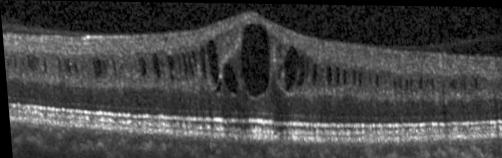intraretinal_cyst: (238, 22, 270, 97), (281, 44, 306, 90), (205, 39, 219, 83), (221, 62, 238, 95), (150, 52, 161, 77), (198, 47, 206, 77), (136, 56, 146, 77), (166, 55, 174, 80), (26, 55, 38, 71), (190, 49, 197, 73), (186, 51, 193, 75), (310, 62, 317, 84), (180, 52, 187, 74), (63, 58, 71, 75), (175, 54, 181, 75), (325, 64, 331, 83), (274, 43, 281, 58), (110, 58, 116, 75), (91, 57, 96, 76), (335, 65, 340, 83), (275, 64, 281, 79), (100, 58, 106, 73), (95, 59, 101, 74), (117, 63, 123, 77), (357, 72, 362, 86), (448, 78, 455, 88), (72, 63, 79, 73), (351, 68, 355, 85), (214, 81, 220, 92), (374, 73, 379, 86), (342, 68, 346, 83), (429, 77, 434, 89), (56, 57, 60, 72), (42, 57, 46, 72), (13, 54, 17, 68), (418, 75, 422, 88), (403, 77, 407, 89), (472, 76, 476, 87), (20, 57, 24, 66), (392, 76, 395, 87), (397, 77, 400, 88), (6, 58, 9, 69), (462, 80, 465, 88), (368, 72, 370, 83), (409, 80, 411, 89), (425, 77, 427, 85), (469, 81, 472, 86), (459, 80, 461, 87)
vitreomacular_traction: (401, 34, 502, 47), (4, 23, 98, 35)
